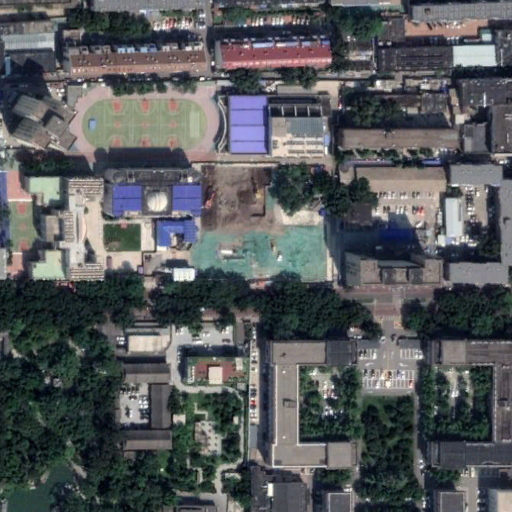cw: (188, 161, 336, 286)
